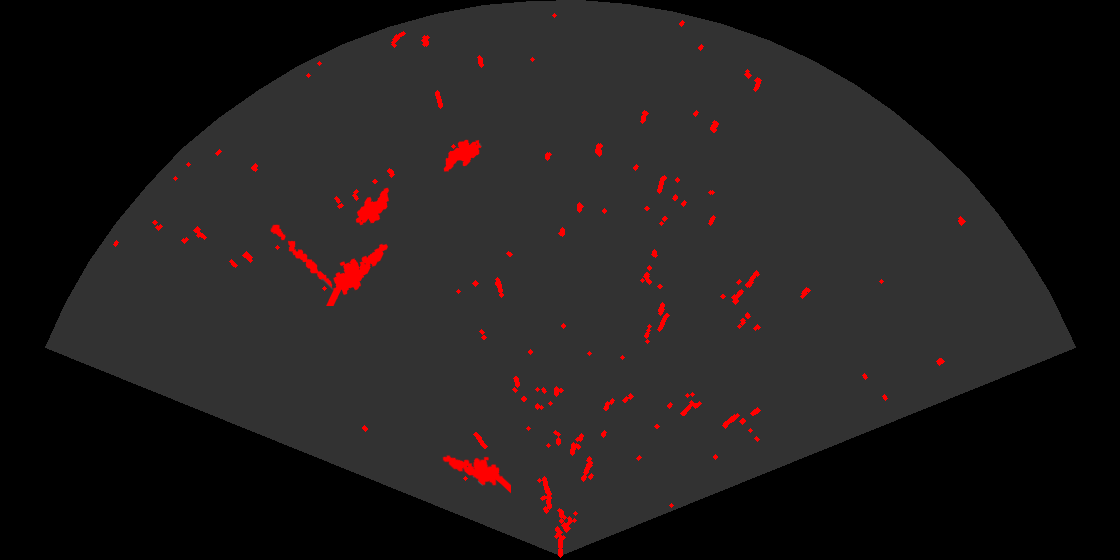AUV: (354, 186, 391, 227), (442, 138, 483, 173)
chain: (269, 223, 340, 301)
frogman: (325, 242, 390, 306), (441, 453, 511, 495)
